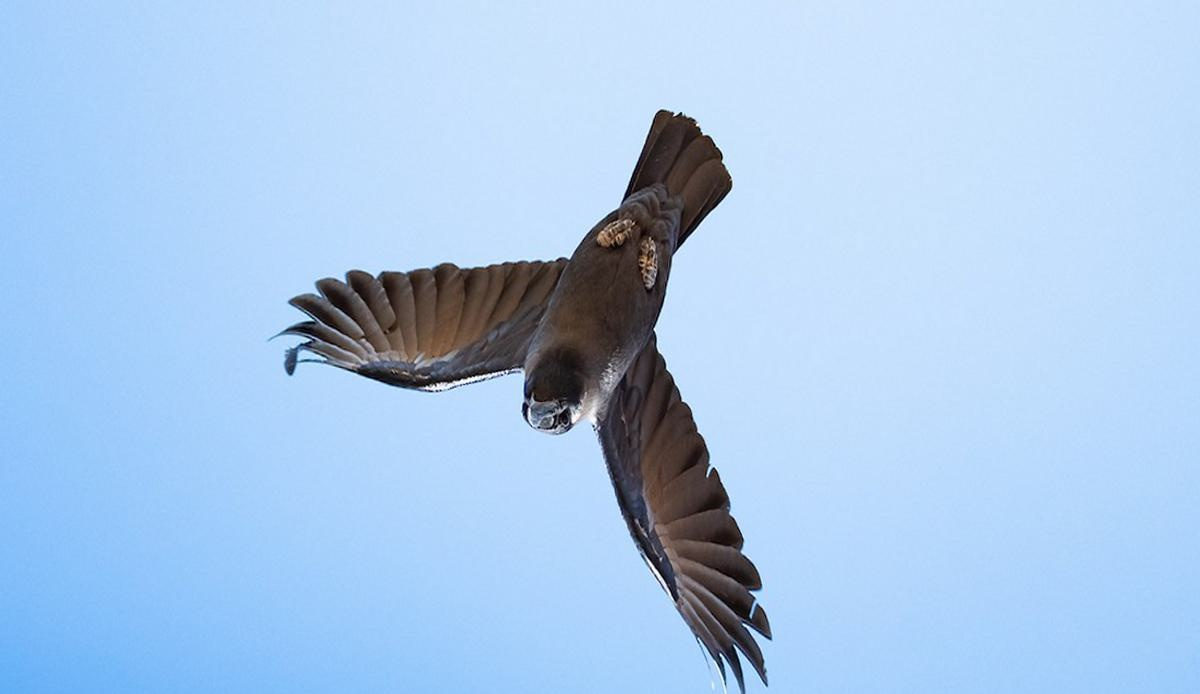crow: (307, 103, 809, 691)
